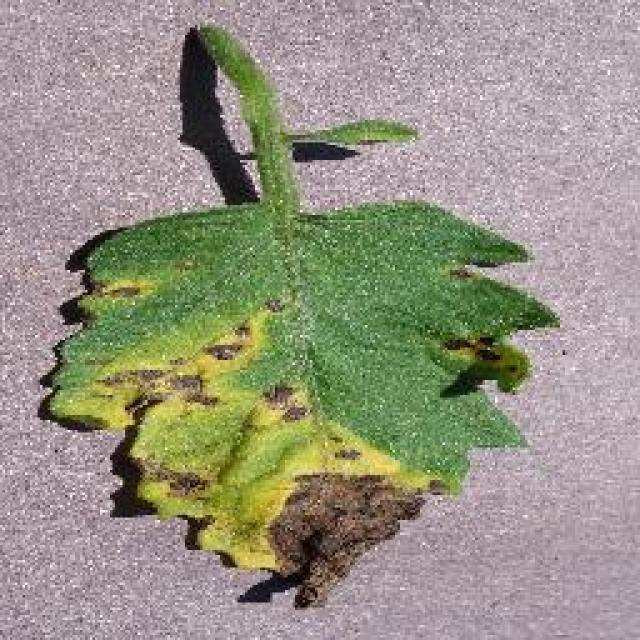Tomato___Septoria_leaf_spot: (45, 28, 558, 605)
